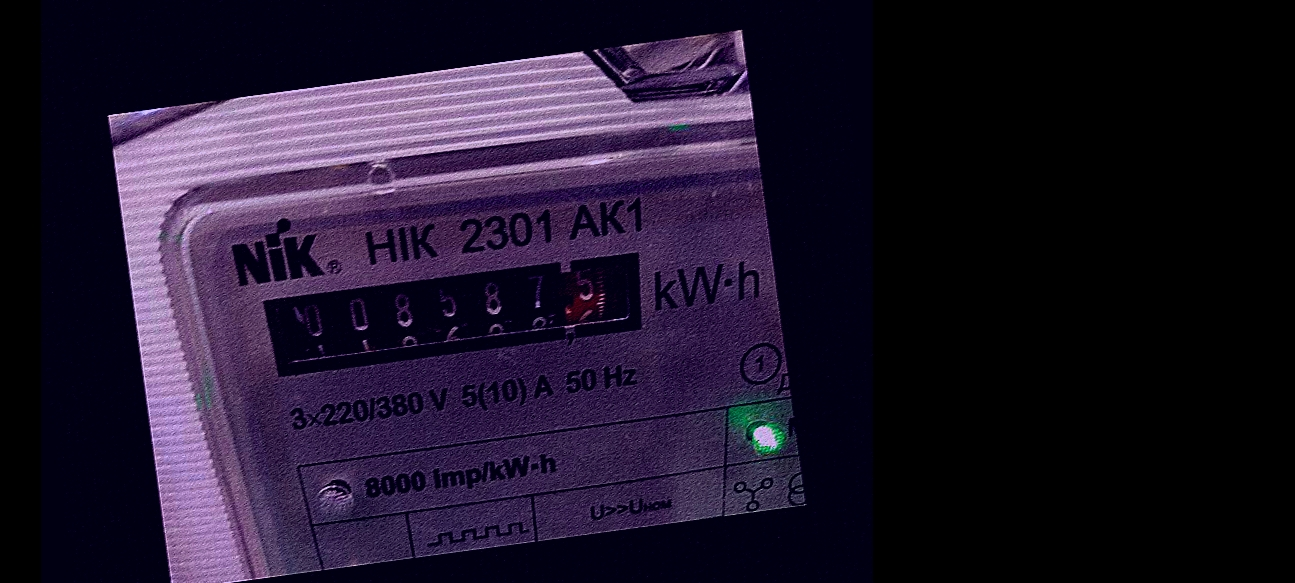0: (344, 291, 373, 334)
1: (298, 297, 327, 341)
5: (571, 261, 600, 304), (434, 280, 462, 321)
7: (522, 269, 551, 313)
8: (388, 287, 418, 331), (479, 275, 505, 319)
screen: (240, 227, 670, 401)
